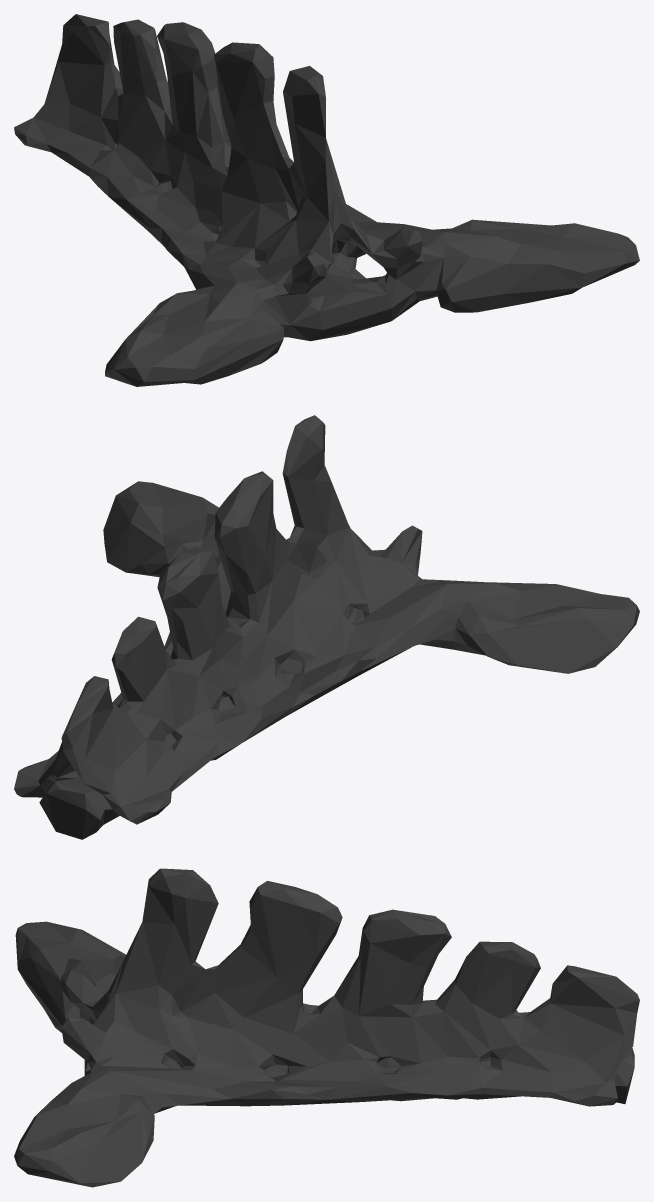
File: skel_spine_sacrum.glb
3 views of the same model, one above another, from view 1: azimuth 30°, elevation 25°; view 2: azimuth 150°, elevation 25°; view 3: azimuth 270°, elevation 25° (orthographic). The views are drawn at different scales.
Visible parts, largest first — view 1: skel_spine_sacrum; view 2: skel_spine_sacrum; view 3: skel_spine_sacrum.
Part boxes in pixels (x1,y1,x2,y2): skel_spine_sacrum: [14, 14, 639, 386]; skel_spine_sacrum: [14, 415, 639, 839]; skel_spine_sacrum: [14, 868, 639, 1187].
Bounding box in the file's own units: 0.0039 × 0.00174 × 0.00428.
Materials: 1 (1 with a texture image).
